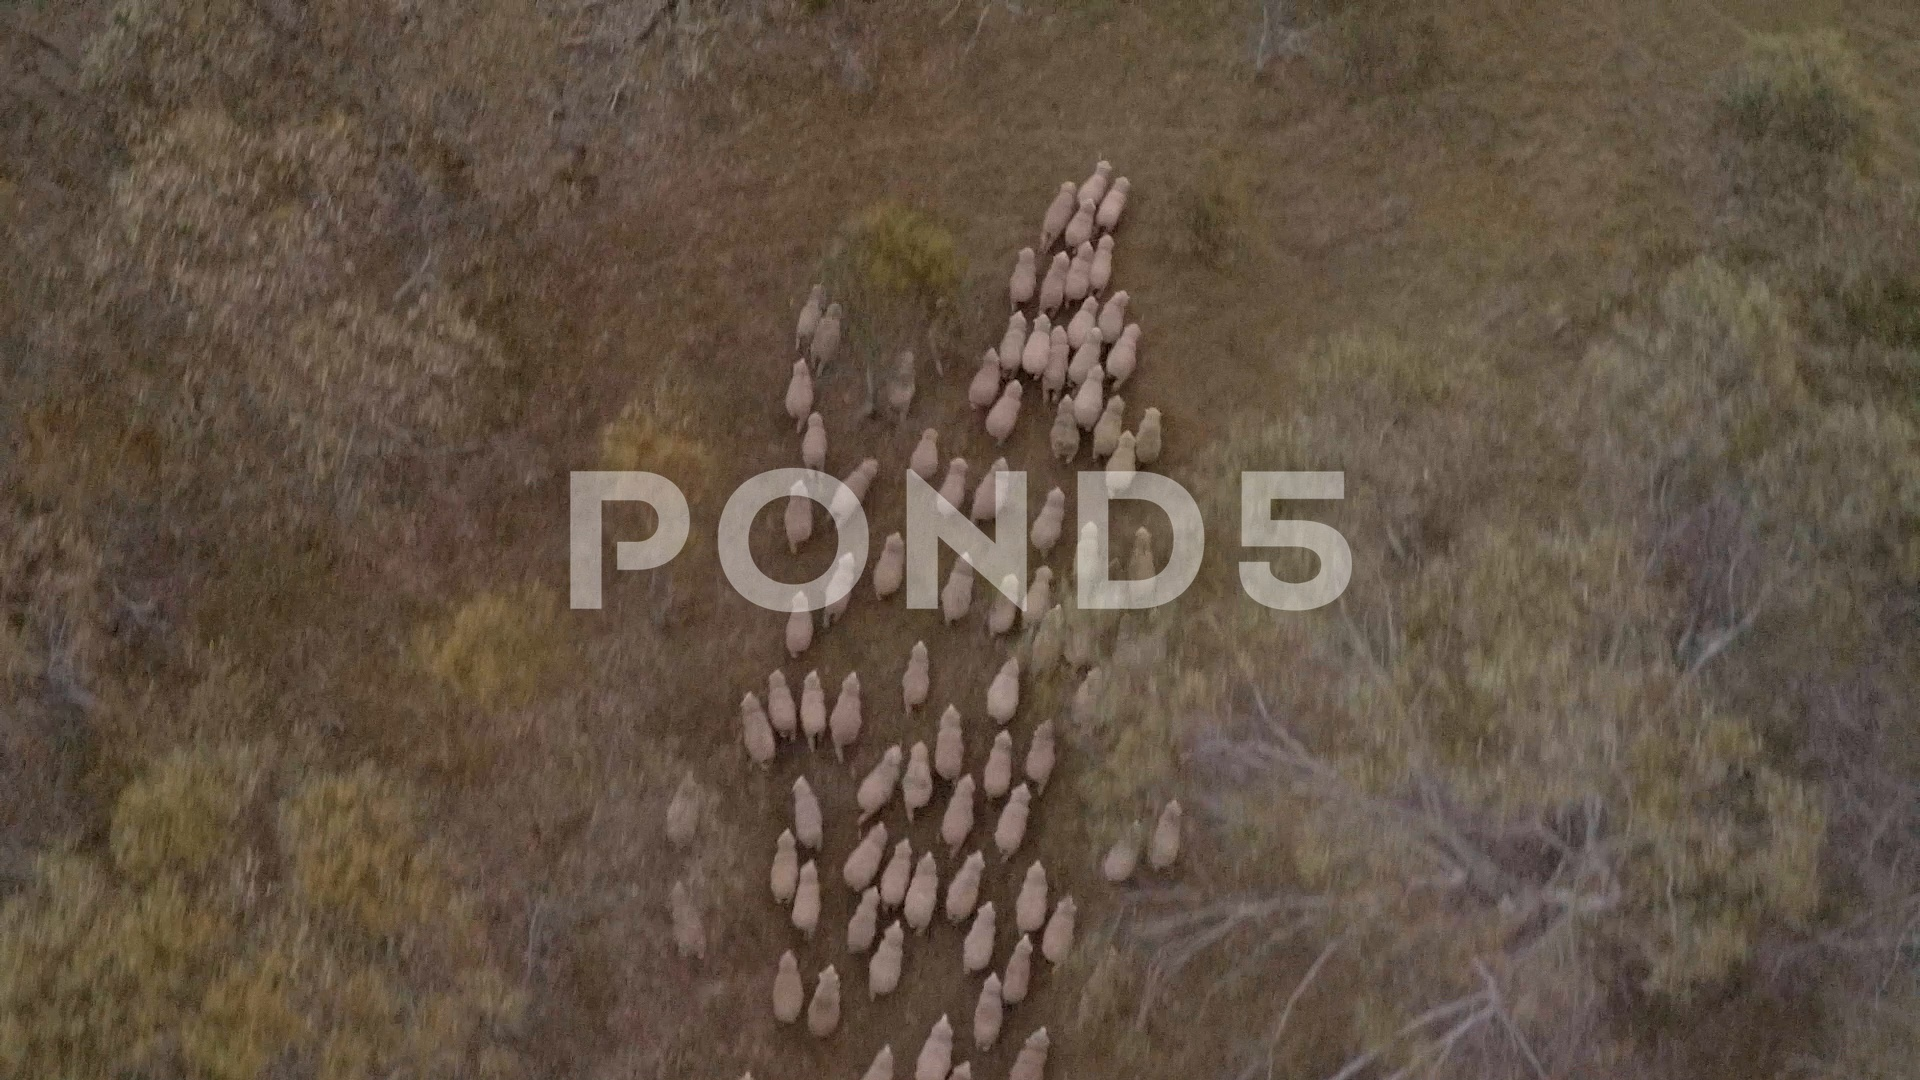sheep: (858, 740, 905, 827), (827, 455, 880, 527), (827, 669, 868, 756), (938, 549, 982, 626), (909, 1010, 957, 1080), (901, 852, 942, 935), (944, 848, 986, 928), (1039, 179, 1083, 255), (843, 822, 889, 890), (870, 919, 909, 1000), (967, 456, 1011, 524), (1001, 931, 1042, 1004), (934, 704, 971, 783), (901, 738, 938, 818), (993, 783, 1030, 862), (968, 973, 1005, 1052), (1021, 562, 1062, 633), (741, 688, 775, 773), (984, 653, 1025, 723), (771, 824, 804, 910), (793, 774, 829, 851), (808, 299, 845, 375), (785, 356, 820, 433), (1104, 320, 1145, 386), (961, 899, 997, 975), (771, 945, 806, 1023), (1015, 857, 1048, 938), (845, 885, 884, 953), (988, 378, 1029, 442), (1106, 819, 1147, 882), (1021, 311, 1058, 380), (823, 553, 857, 626), (1149, 800, 1185, 869), (808, 963, 843, 1036), (1043, 895, 1080, 963), (981, 727, 1014, 802), (1030, 485, 1065, 554), (1093, 175, 1134, 235), (1102, 429, 1137, 498), (1022, 717, 1055, 790), (1039, 248, 1073, 316), (899, 642, 932, 713), (793, 858, 822, 939), (1062, 243, 1096, 310), (986, 572, 1021, 640), (874, 527, 907, 597), (1096, 287, 1135, 345), (1009, 1025, 1050, 1080), (1092, 396, 1126, 462), (800, 670, 829, 746), (793, 282, 825, 349), (785, 589, 818, 657), (968, 348, 1001, 413), (1048, 394, 1080, 460), (1073, 367, 1106, 429), (936, 458, 971, 517), (770, 667, 798, 740), (998, 313, 1029, 378), (1133, 402, 1166, 463), (1005, 249, 1036, 311), (785, 480, 811, 554), (1077, 157, 1116, 207), (803, 410, 828, 487), (909, 427, 942, 485), (1062, 198, 1098, 249), (1073, 520, 1101, 588), (1065, 298, 1101, 351), (1088, 229, 1116, 294)
